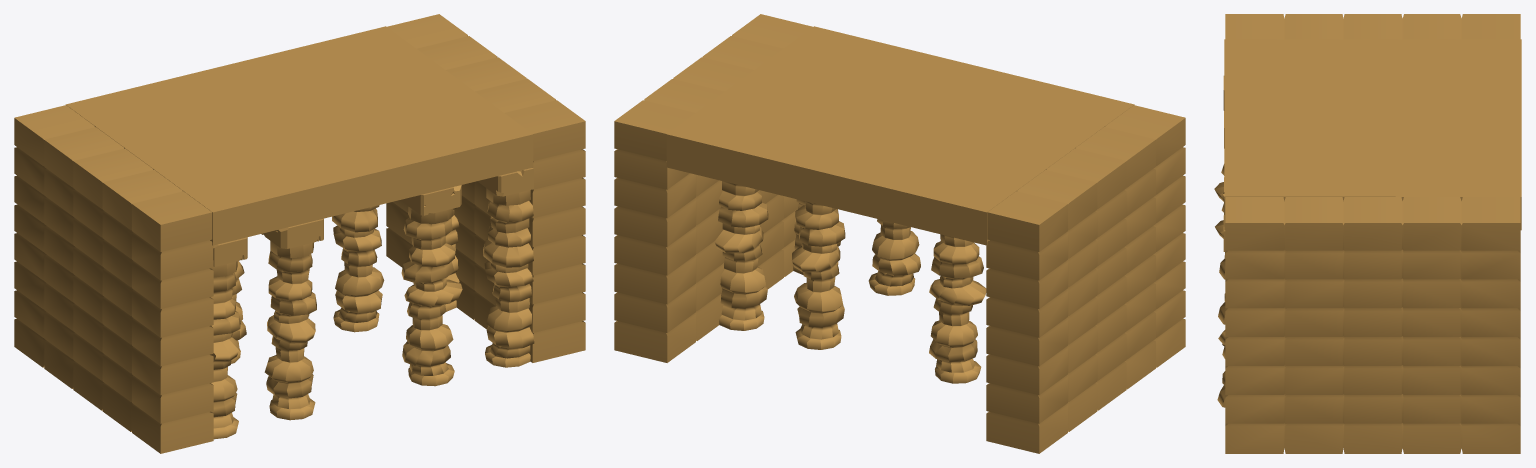
The model's file is Mine_Opening_maybe.fbx.
3 views of the same model, side by side, from view 1: azimuth 30°, elevation 25°; view 2: azimuth 150°, elevation 25°; view 3: azimuth 270°, elevation 25° (orthographic).
Parts seen in each view (by area): view 1: pCube18, pCube20, pCylinder1 (×6), pCube19, pCube16 (×4); view 2: pCube18, pCube20, pCube19, pCylinder1 (×4); view 3: pCube19, pCube18, pCube20, pCylinder1.
Part boxes in pixels (box(x1,y1,x2,y2)): pCube18: box(65, 26, 533, 245); pCube20: box(14, 105, 213, 453); pCylinder1 (×6): box(210, 188, 534, 439); pCube19: box(386, 14, 585, 362); pCube16 (×4): box(213, 168, 533, 266); pCube18: box(666, 26, 1134, 245); pCube20: box(986, 105, 1185, 453); pCube19: box(614, 14, 812, 362); pCylinder1 (×4): box(714, 181, 986, 383); pCube19: box(1225, 197, 1520, 453); pCube18: box(1224, 39, 1521, 230); pCube20: box(1225, 14, 1520, 39); pCylinder1: box(1217, 252, 1225, 407).
Size of the model in its own units: 66.34 by 34.23 by 41.23.
